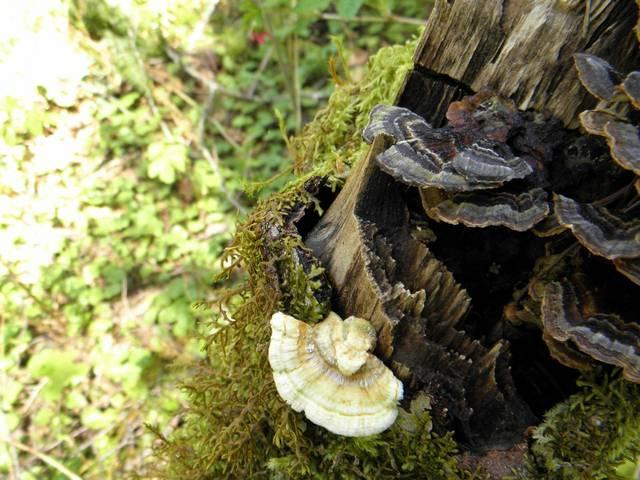poisonous_mushroom: (366, 41, 640, 380), (266, 309, 404, 438)
